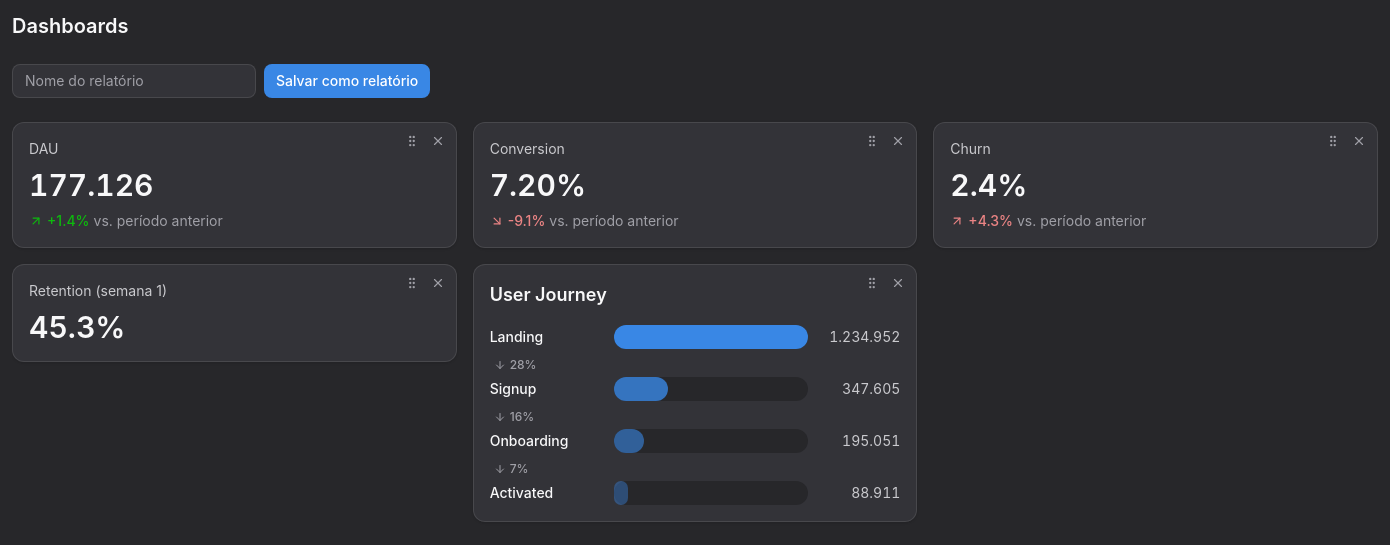
DashboardsPage › remover um widget tira ele da tela e libera o botão de adicionar de volta
What coordinates should you click on to do the following:
click the button named "remover widget dau"
I would click on:
 (438, 141)
Its box is [427,130,449,152].
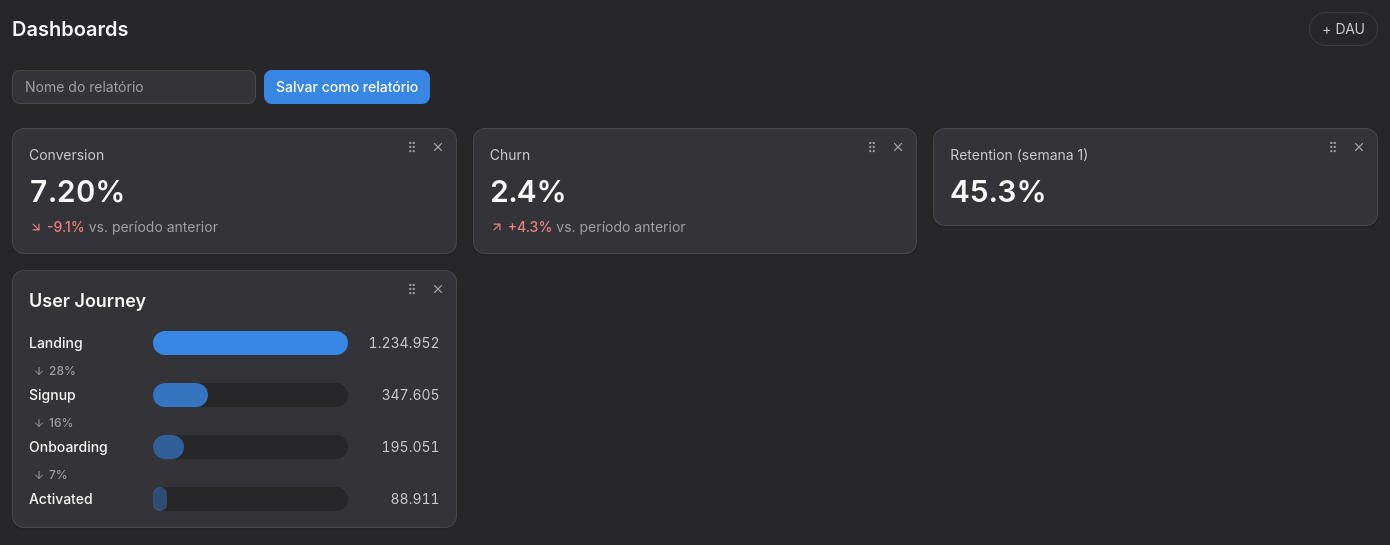
Check: the button "+ DAU" is shown, box [1309,12,1378,46]
